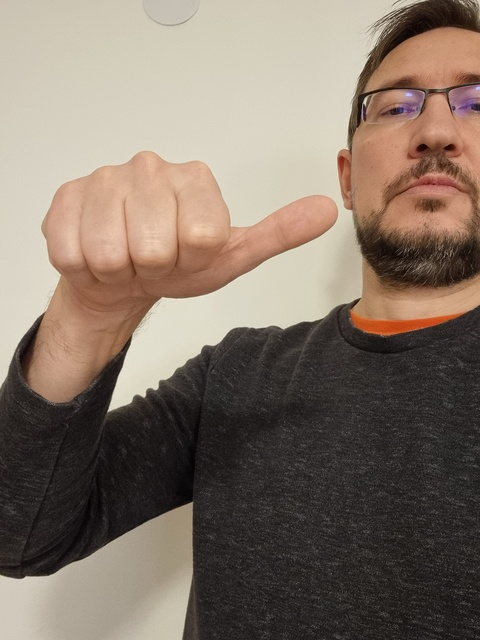GestBack: (49, 151, 338, 298)
